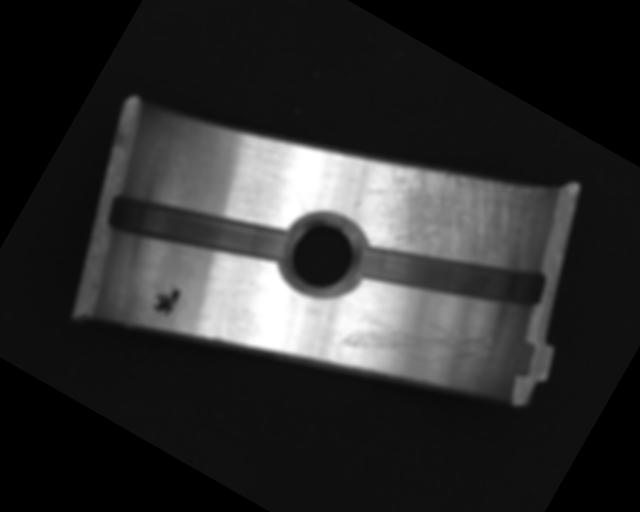blot: (144, 276, 187, 322)
gap: (349, 187, 553, 360), (99, 151, 294, 311)
hole: (270, 206, 371, 308)
nick: (339, 274, 493, 407)
scratch: (341, 110, 562, 320)
